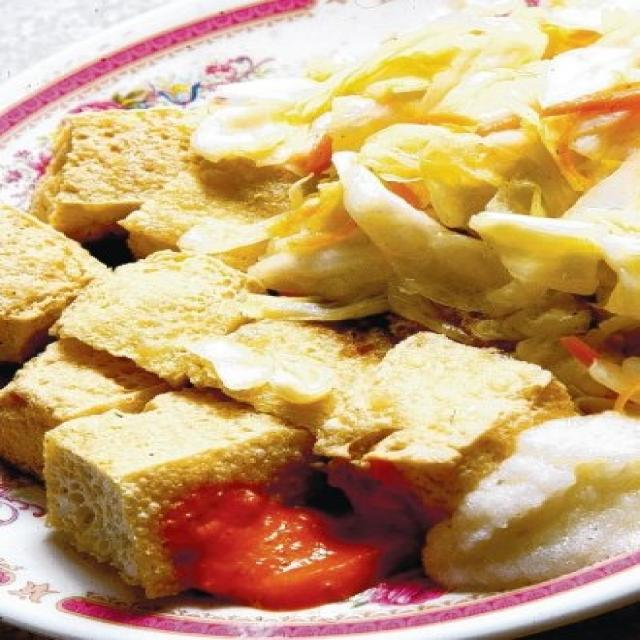豆腐料理: (4, 1, 632, 629)
